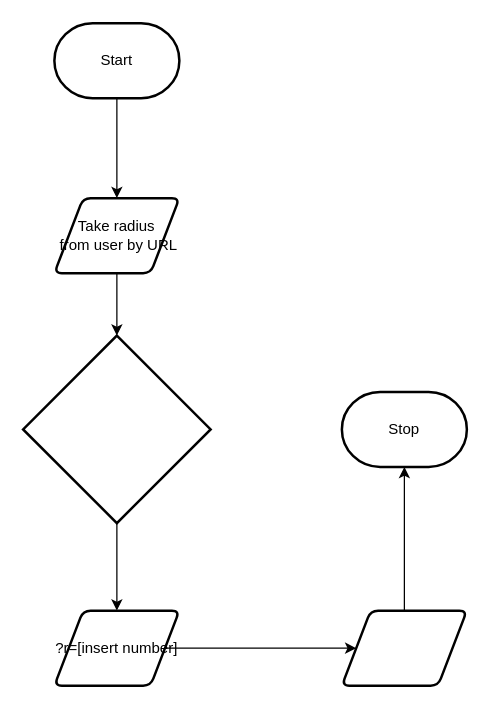
This 489x708 diagram has some shape labels left out. The shapes that lost their labels are listed below. From the top down, each one's centre as x and y in pixels, then its label:
the point at 116,429: volume = (4 / 3) * Math.PI * Math.pow(radius, 3)
the point at 404,647: Show answer after refresh
